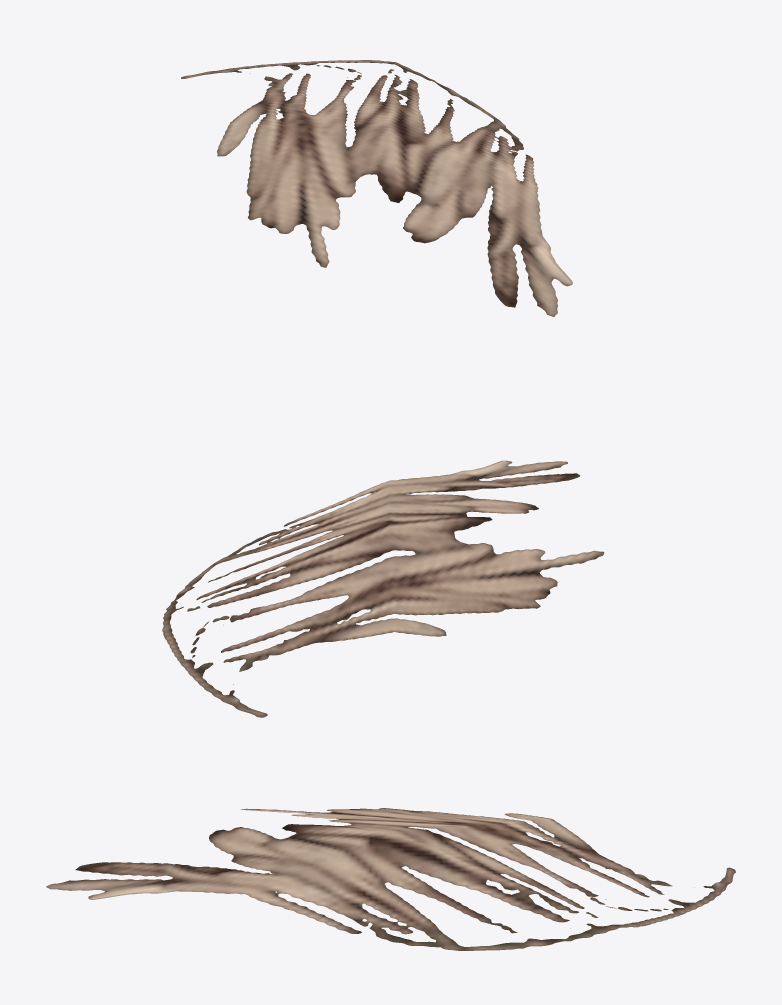
File: arden_forest_ash_tree_leaves_03_foliage.fbx
The picture shows the model from 3 angles, top to bottom: view 1: azimuth 30°, elevation 25°; view 2: azimuth 150°, elevation 25°; view 3: azimuth 270°, elevation 25°; orthographic projection.
Parts seen in each view (by area): view 1: arden_forest_ash_tree_leaves_03_foliage; view 2: arden_forest_ash_tree_leaves_03_foliage; view 3: arden_forest_ash_tree_leaves_03_foliage.
Boxes of the visible parts, x1,y1,x2,y2 form: arden_forest_ash_tree_leaves_03_foliage: (181, 60, 572, 316); arden_forest_ash_tree_leaves_03_foliage: (162, 460, 604, 717); arden_forest_ash_tree_leaves_03_foliage: (46, 808, 735, 950).
Bounding box in the file's own units: 17.21 × 2.64 × 28.77.
